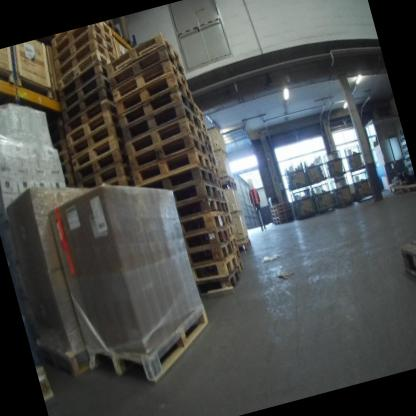pallet: (85, 300, 222, 390), (34, 324, 102, 387), (111, 73, 193, 121), (107, 43, 184, 90), (119, 101, 200, 145), (106, 58, 185, 102), (134, 148, 214, 191), (103, 31, 178, 76), (123, 114, 203, 156), (115, 87, 195, 126), (59, 94, 125, 137), (48, 22, 115, 64), (138, 164, 214, 201), (129, 134, 205, 171), (53, 29, 115, 69), (57, 81, 119, 121), (65, 120, 129, 157), (70, 145, 133, 181), (53, 43, 116, 78), (62, 105, 123, 141), (54, 61, 114, 96), (67, 133, 130, 166), (51, 51, 115, 83), (54, 70, 114, 103), (48, 21, 111, 52), (171, 177, 223, 213), (393, 228, 416, 309), (192, 255, 242, 291), (75, 160, 134, 190), (195, 267, 243, 303), (175, 192, 223, 224), (187, 242, 235, 273), (183, 225, 232, 254), (179, 211, 228, 240), (37, 364, 61, 406), (391, 178, 416, 198), (100, 17, 121, 38), (115, 178, 136, 193), (272, 215, 296, 228), (217, 192, 231, 214), (231, 245, 246, 264), (221, 174, 237, 191), (51, 138, 68, 154), (269, 204, 291, 215), (211, 174, 224, 192), (55, 148, 69, 164), (268, 200, 290, 210), (231, 258, 245, 273), (226, 233, 239, 249), (270, 209, 293, 218), (271, 212, 293, 221), (220, 208, 231, 226), (223, 224, 236, 239), (59, 160, 72, 174), (198, 126, 210, 140), (203, 137, 212, 155), (209, 153, 218, 171), (193, 104, 203, 120), (215, 187, 226, 201), (62, 173, 74, 185), (243, 239, 254, 252), (199, 119, 208, 134), (212, 166, 221, 179)
stillage: (287, 187, 317, 221), (299, 152, 328, 185), (309, 180, 336, 215), (282, 161, 310, 194), (327, 176, 354, 208), (321, 147, 347, 178), (341, 142, 366, 173), (351, 174, 376, 202)
